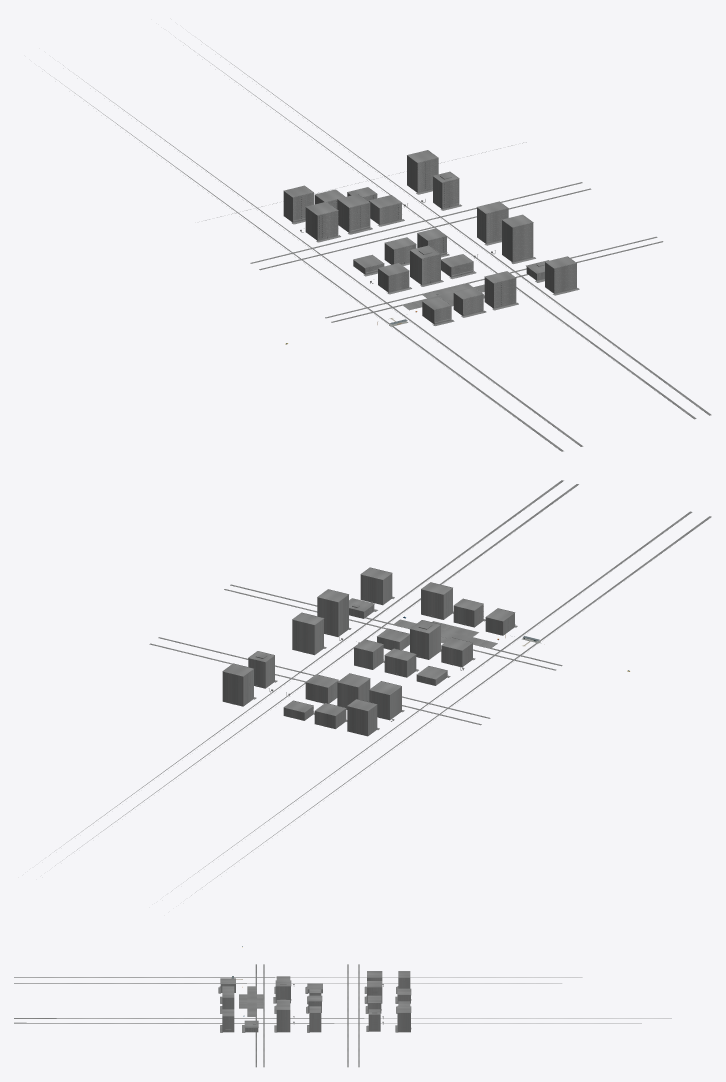
Rendered from cell_1_-3_lod1.gltf.
The picture shows the model from 3 angles, top to bottom: view 1: azimuth 30°, elevation 25°; view 2: azimuth 150°, elevation 25°; view 3: azimuth 270°, elevation 25°; orthographic projection. The views are drawn at different scales.
Parts seen in each view (by area): view 1: GIDI_VICTORIA_ISLAND_CBD_V2_MESH; view 2: GIDI_VICTORIA_ISLAND_CBD_V2_MESH; view 3: GIDI_VICTORIA_ISLAND_CBD_V2_MESH.
Part boxes in pixels (<box>): GIDI_VICTORIA_ISLAND_CBD_V2_MESH: <box>44,37,711,451</box>; GIDI_VICTORIA_ISLAND_CBD_V2_MESH: <box>49,480,711,895</box>; GIDI_VICTORIA_ISLAND_CBD_V2_MESH: <box>14,964,671,1067</box>.
Size of what is drawn, in the model's own units: 674 by 58.68 by 1645.
20 materials, 1 textured.
